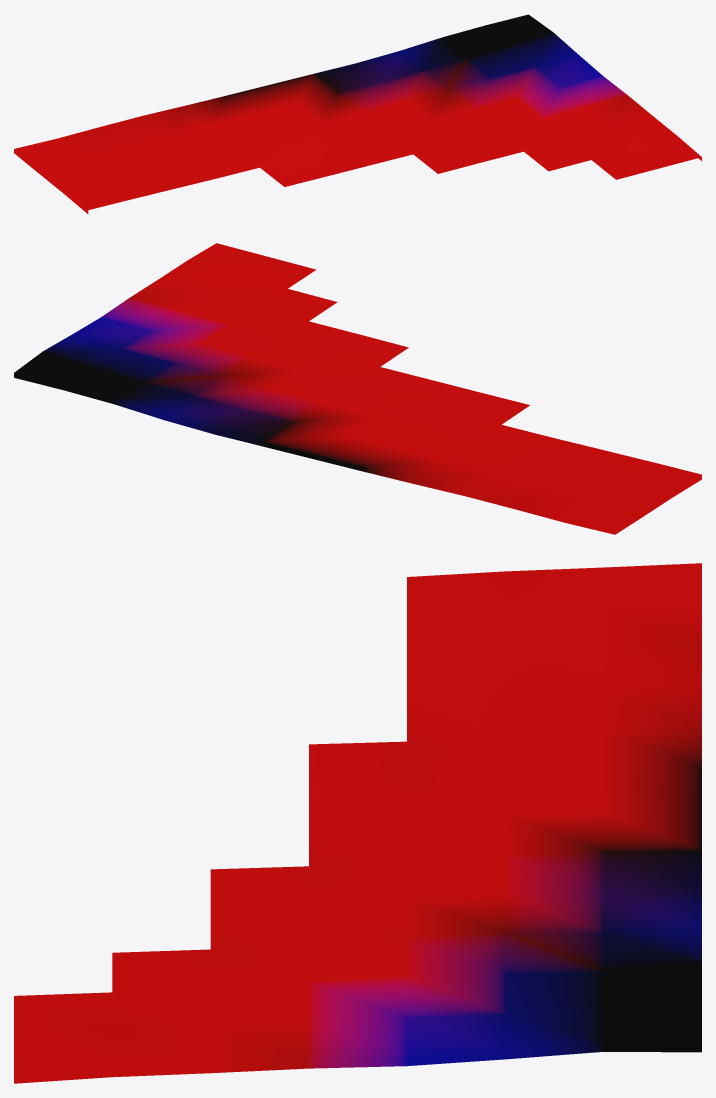
File: coast_22_8.glb
3 views of the same model, one above another, from view 1: azimuth 30°, elevation 25°; view 2: azimuth 150°, elevation 25°; view 3: azimuth 270°, elevation 25° (orthographic). The views are drawn at different scales.
Parts seen in each view (by area): view 1: terrain; view 2: terrain; view 3: terrain.
Part boxes in pixels (left/top/right/bottom): terrain: left=14, top=14, right=701, bottom=213; terrain: left=14, top=243, right=701, bottom=534; terrain: left=14, top=563, right=701, bottom=1083.
Size of the model in its own units: 192 by 7.25 by 112.
